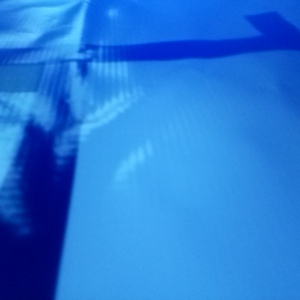bottom_left: (56, 1, 127, 10)
bottom_right: (99, 1, 167, 9)
top_right: (123, 163, 300, 300)
